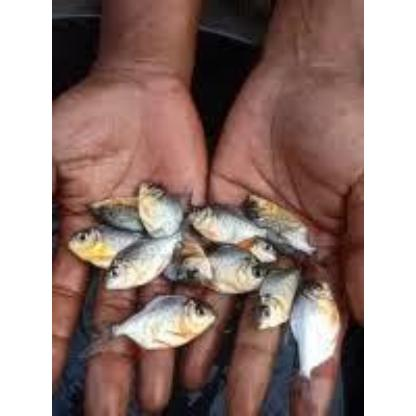ikan-pacu: (110, 292, 208, 352), (291, 278, 339, 360), (106, 235, 178, 288), (254, 262, 309, 324), (189, 198, 263, 240), (69, 220, 139, 262), (201, 250, 259, 298), (138, 183, 188, 237)
